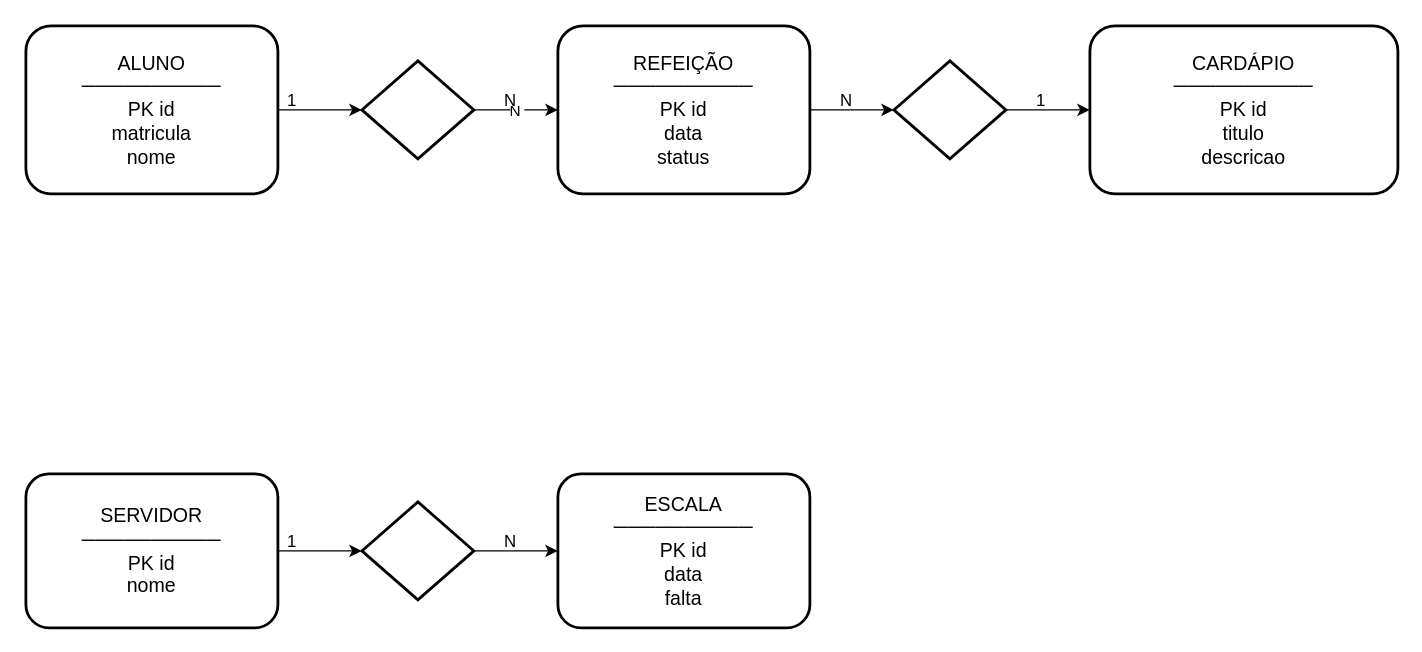
This 1422x652 diagram has some shape labels left out. Each missing label, with the centre of its shape:
PARTICIPA: point (417, 550)
POSSUI: point (949, 109)
REALIZA: point (417, 109)
